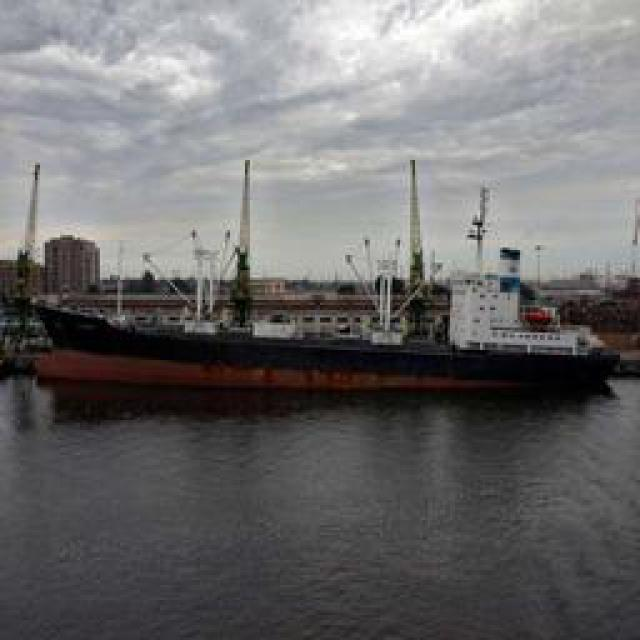Ship: (20, 227, 615, 397)
